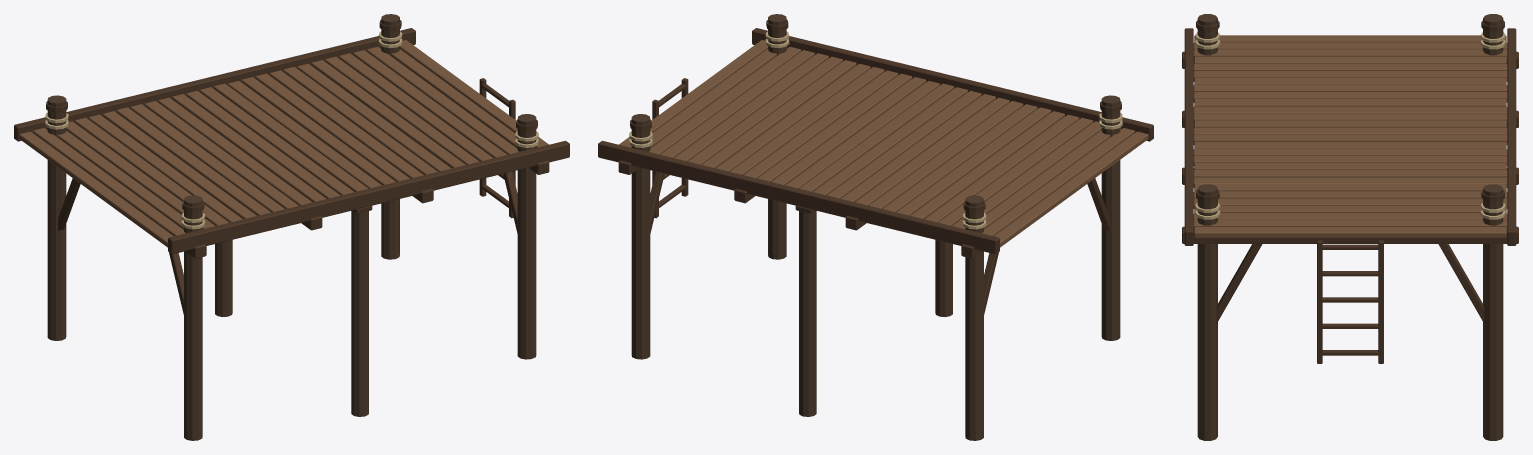
The model's file is dock.glb.
3 views of the same model, side by side, from view 1: azimuth 30°, elevation 25°; view 2: azimuth 150°, elevation 25°; view 3: azimuth 270°, elevation 25° (orthographic). The views are drawn at different scales.
Parts seen in each view (by area): view 1: dock; view 2: dock; view 3: dock.
Part boxes in pixels (x1,y1,x2,y2): dock: (14,14,569,440); dock: (598,14,1153,440); dock: (1182,14,1518,440).
Bounding box in the file's own units: 8.79 × 5.25 × 6.02.
